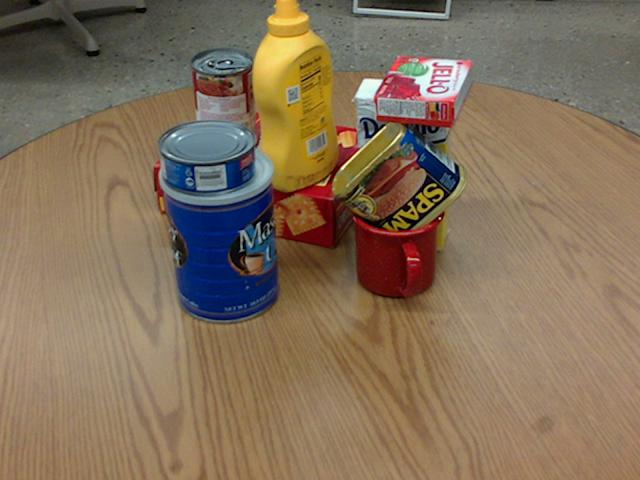cracker_box: (152, 106, 381, 248)
gelatin_box: (374, 55, 472, 126)
large_marker: (167, 144, 196, 251)
master_chef_can: (157, 140, 280, 321)
mug: (350, 186, 447, 299)
mustard_bottle: (253, 0, 338, 191)
potted_meat_can: (331, 116, 467, 249)
sugar_box: (355, 78, 453, 252)
tomato_soup_can: (189, 48, 256, 156)
tuna_fish_can: (157, 118, 255, 193)
